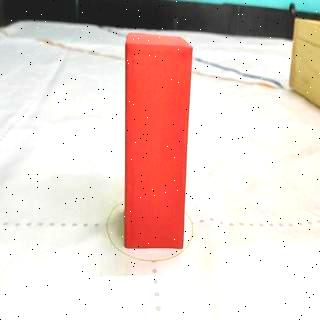redbox: (125, 31, 193, 250)
